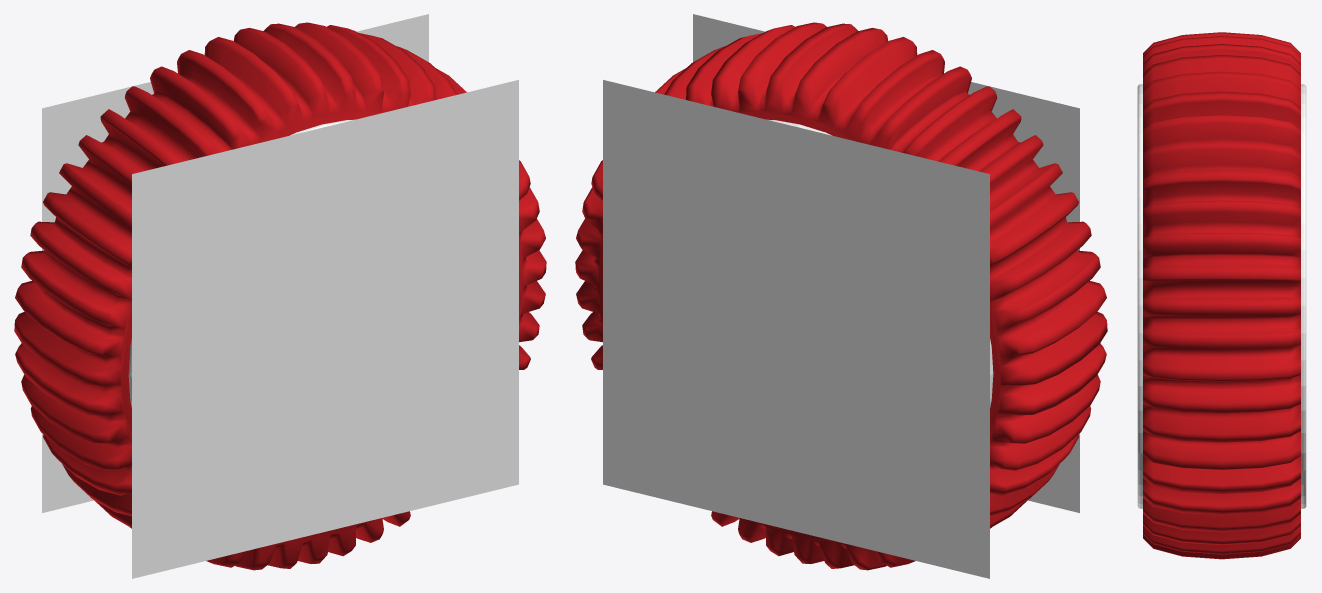
File: plush_sjtu.glb
3 renders of one model, left to right at view 1: azimuth 30°, elevation 25°; view 2: azimuth 150°, elevation 25°; view 3: azimuth 270°, elevation 25°, orthographic. The views are drawn at different scales.
Visible parts, largest first — view 1: print_front, plush_sjtu, print_back; view 2: print_back, plush_sjtu, print_front; view 3: plush_sjtu.
Boxes of the visible parts, box(x1,y1,x2,y2) form: print_front: box(132, 80, 518, 578); plush_sjtu: box(14, 22, 546, 570); print_back: box(42, 14, 428, 512); print_back: box(603, 80, 989, 578); plush_sjtu: box(575, 22, 1107, 570); print_front: box(693, 14, 1079, 512); plush_sjtu: box(1137, 32, 1306, 559).
Bounding box in the file's own units: 0.3 × 0.3009 × 0.0974.
